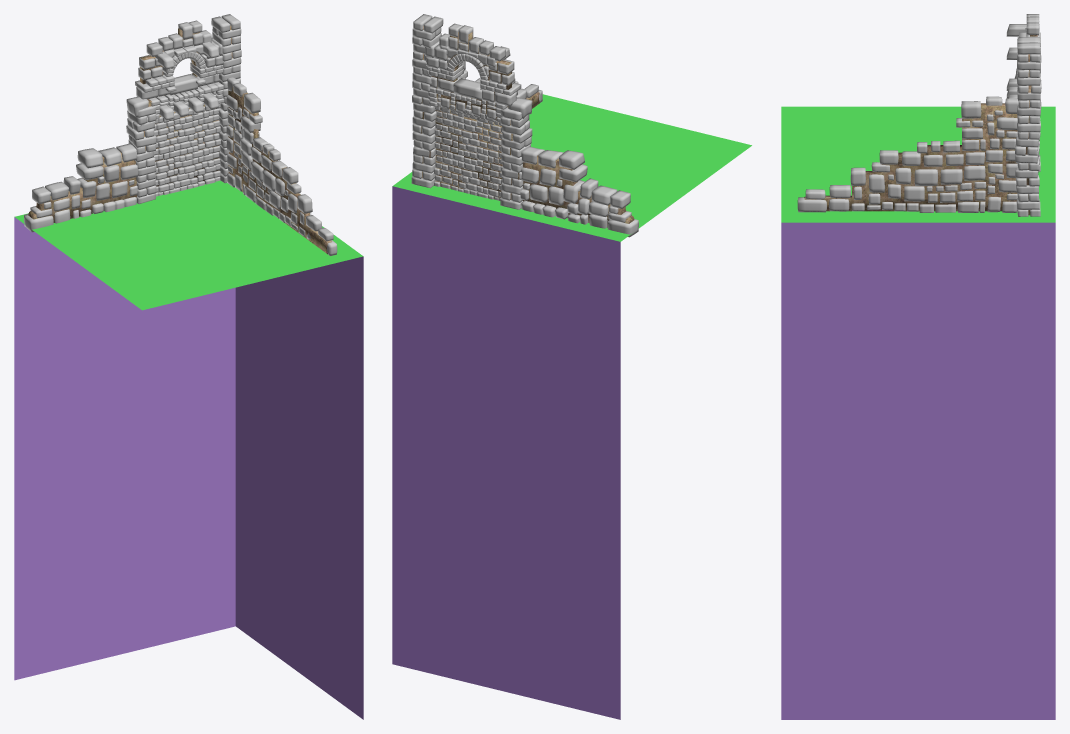
Rendered from RoomCorner_4.fbx.
3 renders of one model, left to right at view 1: azimuth 30°, elevation 25°; view 2: azimuth 150°, elevation 25°; view 3: azimuth 270°, elevation 25°, orthographic. The views are drawn at different scales.
Visible parts, largest first — view 1: RoomCornder_4; view 2: RoomCornder_4; view 3: RoomCornder_4.
Boxes of the visible parts, bbox=[...] form: RoomCornder_4: bbox=[14, 14, 363, 719]; RoomCornder_4: bbox=[392, 14, 751, 719]; RoomCornder_4: bbox=[781, 14, 1055, 719].
Size of the model in its own units: 400 by 1077 by 400.
